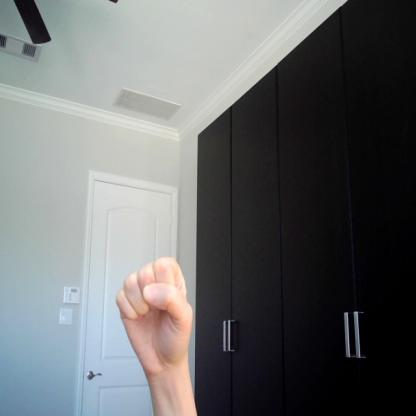S: (112, 253, 194, 369)
